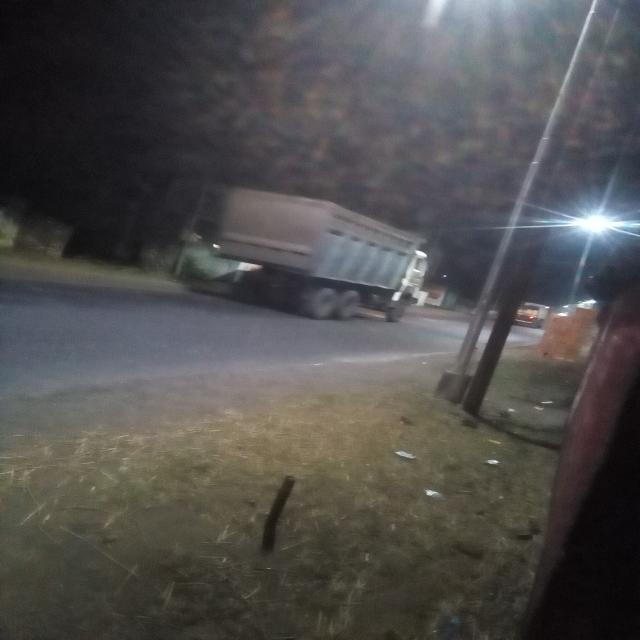truck_back: (210, 180, 435, 326)
